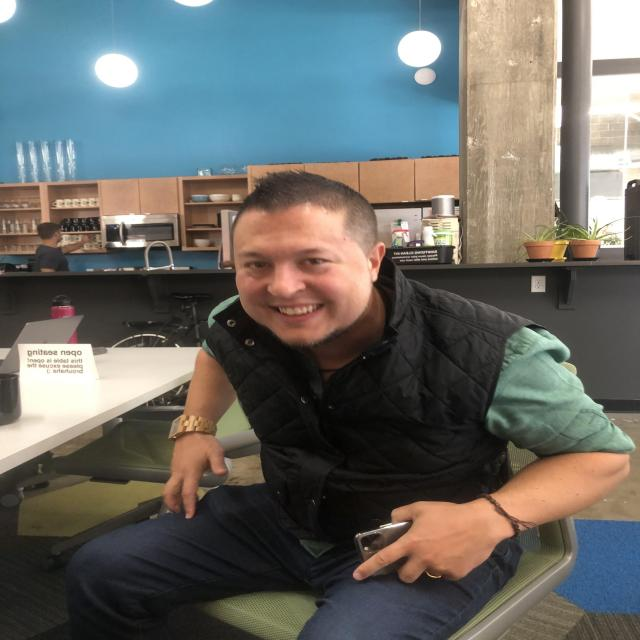face: (230, 217, 374, 350), (52, 228, 62, 242)
